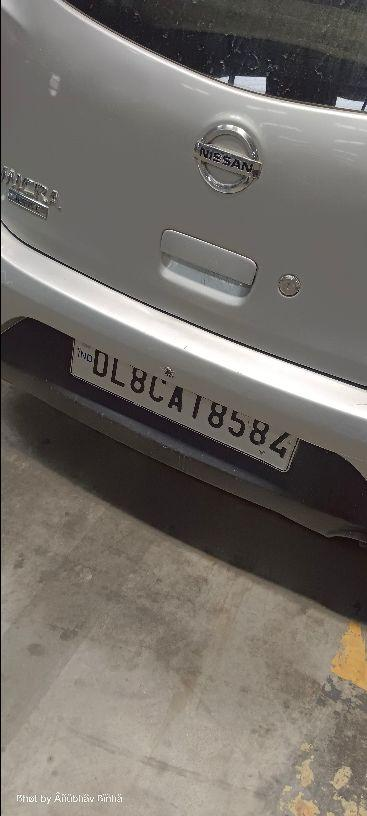license_plate: (67, 336, 301, 474)
